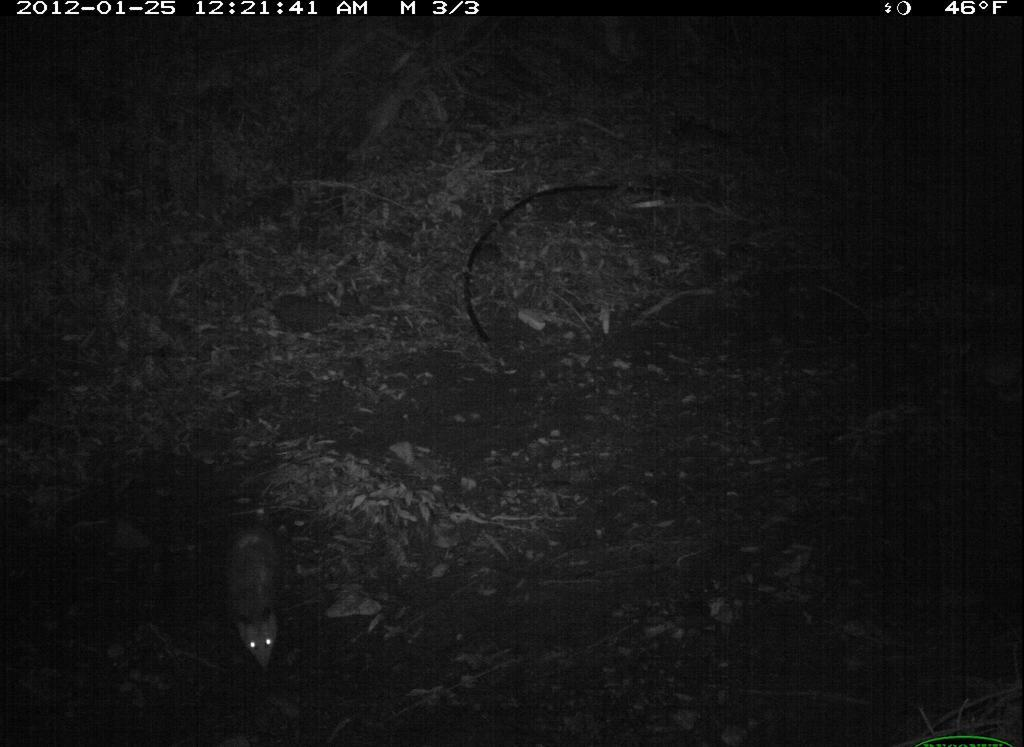opossum: (216, 501, 300, 675)
